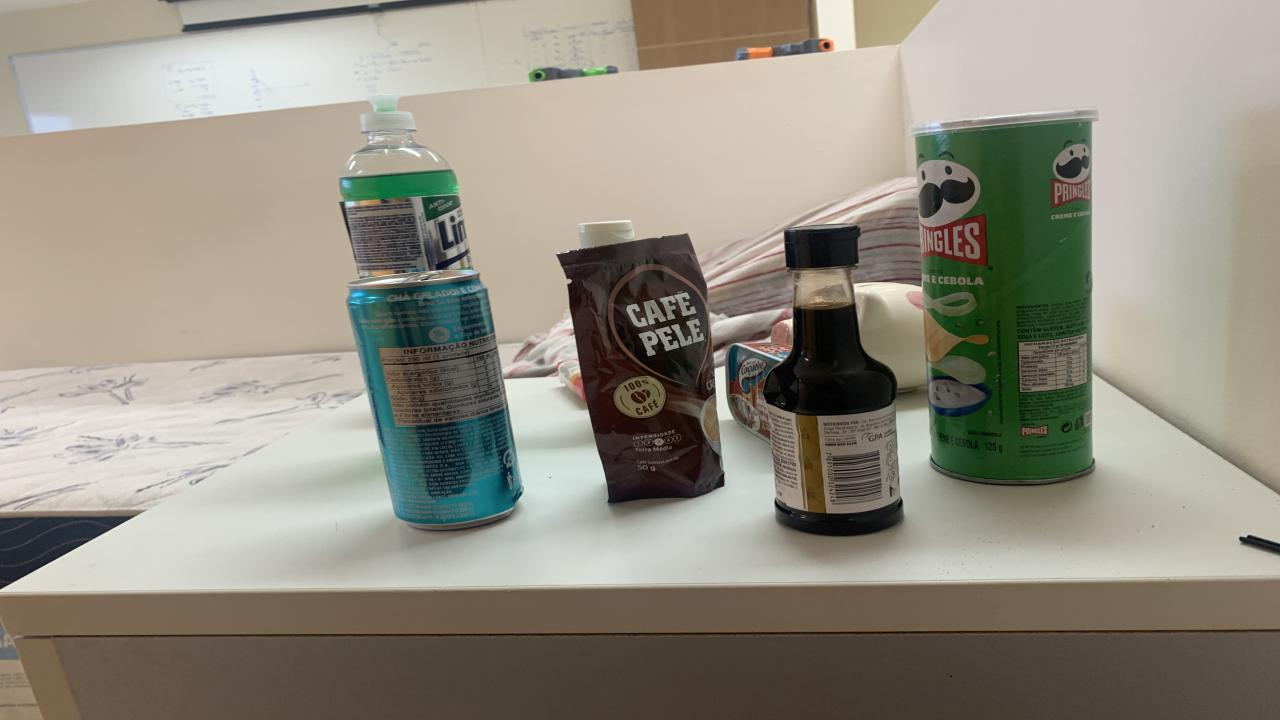Coffee-Pantry_Items: (558, 234, 725, 502)
Detergent-Cleanup_Items: (340, 96, 472, 278)
English_Sauce-Pantry_Items: (765, 227, 902, 534)
Mustard-Pantry_Items: (578, 219, 635, 249)
Pig_Safe-Miscellaneous: (855, 283, 928, 392), (770, 319, 792, 345)
Pringles-Snacks: (915, 111, 1098, 484)
Tea-Drinks: (348, 270, 522, 529)
Tuna_Can-Pantry_Items: (725, 341, 790, 441)
